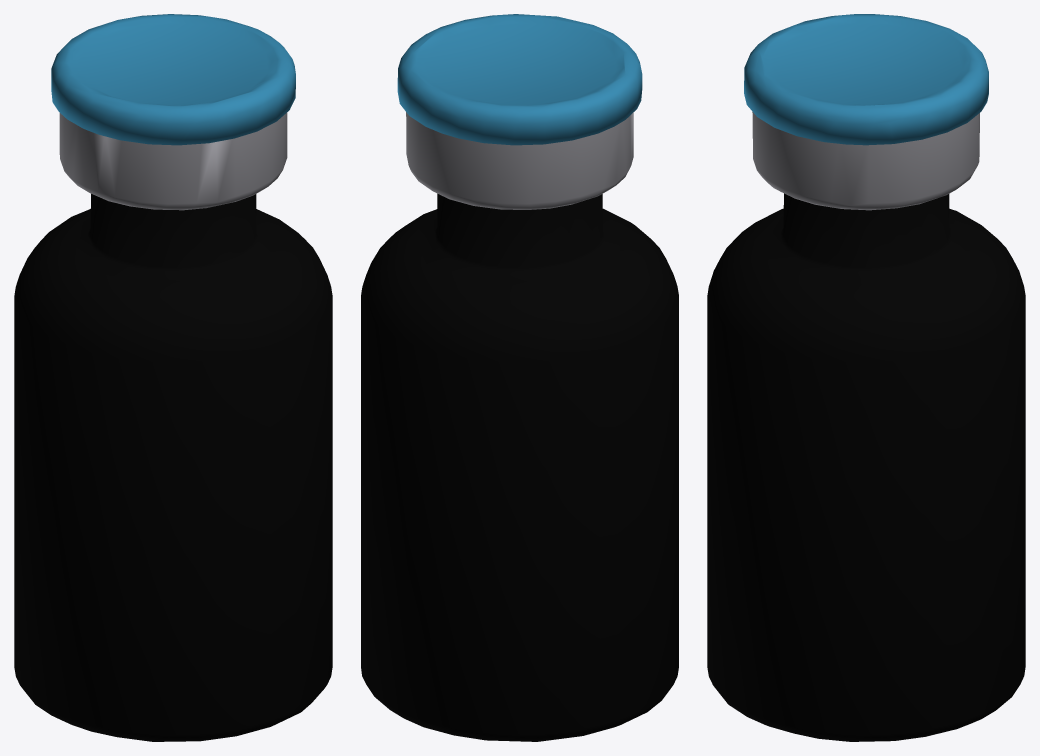
File: bottle_simple.fbx
3 renders of one model, left to right at view 1: azimuth 30°, elevation 25°; view 2: azimuth 150°, elevation 25°; view 3: azimuth 270°, elevation 25°, orthographic.
Parts seen in each view (by area): view 1: Circle029; view 2: Circle029; view 3: Circle029.
Part boxes in pixels (left/top/right/bottom): Circle029: left=14, top=14, right=332, bottom=741; Circle029: left=361, top=14, right=678, bottom=741; Circle029: left=707, top=14, right=1025, bottom=741.
Bounding box in the file's own units: 2.97 × 6.4 × 2.97.
